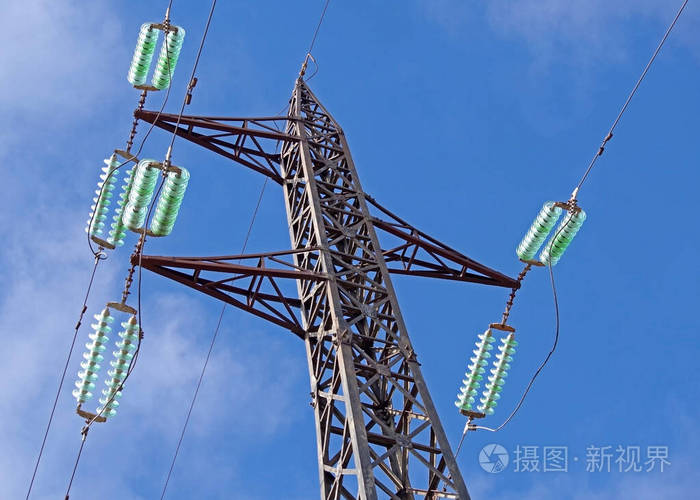insulator: (72, 312, 133, 417), (454, 331, 518, 415), (123, 161, 191, 236), (514, 201, 587, 264), (88, 159, 136, 242), (128, 22, 182, 90)
